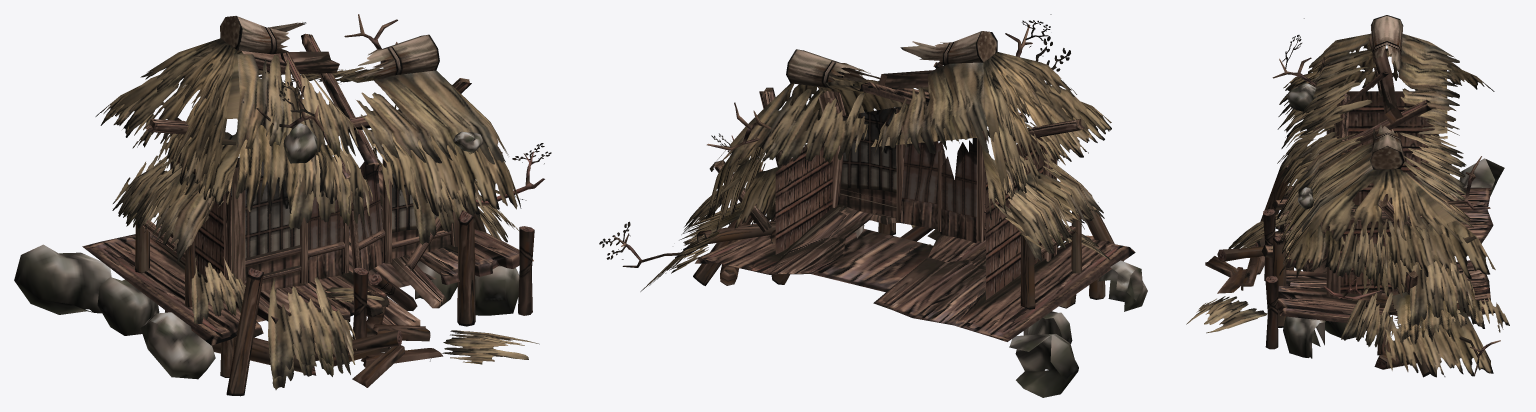
Rendered from PRP_HouseForestB01.FBX.
3 views of the same model, side by side, from view 1: azimuth 30°, elevation 25°; view 2: azimuth 150°, elevation 25°; view 3: azimuth 270°, elevation 25° (orthographic). The views are drawn at different scales.
Visible parts, largest first — view 1: PRP_HouseForestB01; view 2: PRP_HouseForestB01; view 3: PRP_HouseForestB01.
Boxes of the visible parts, bbox=[...] form: PRP_HouseForestB01: bbox=[14, 14, 551, 396]; PRP_HouseForestB01: bbox=[599, 14, 1147, 397]; PRP_HouseForestB01: bbox=[1186, 15, 1509, 377].
Size of the model in its own units: 1188 by 723 by 876.
